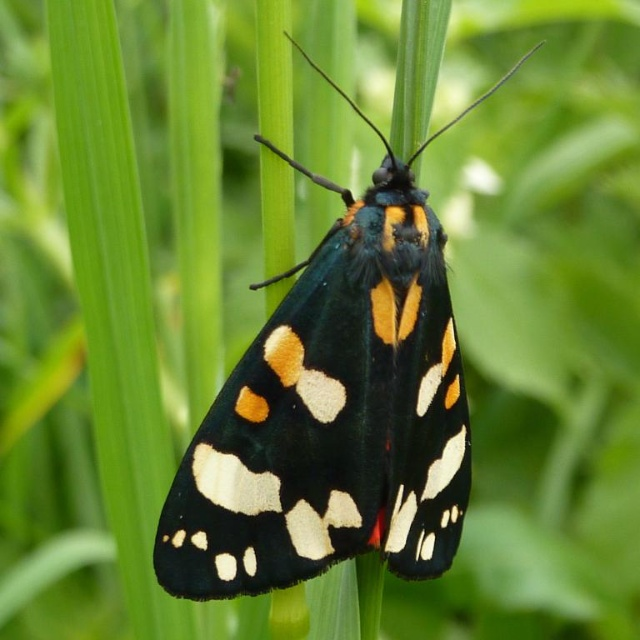Butterfly: (136, 5, 524, 610)
